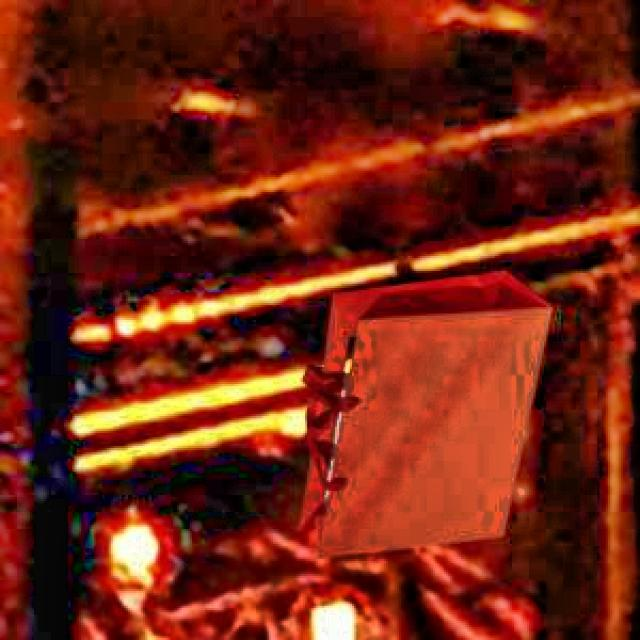Paper-bag: (276, 267, 570, 569)
